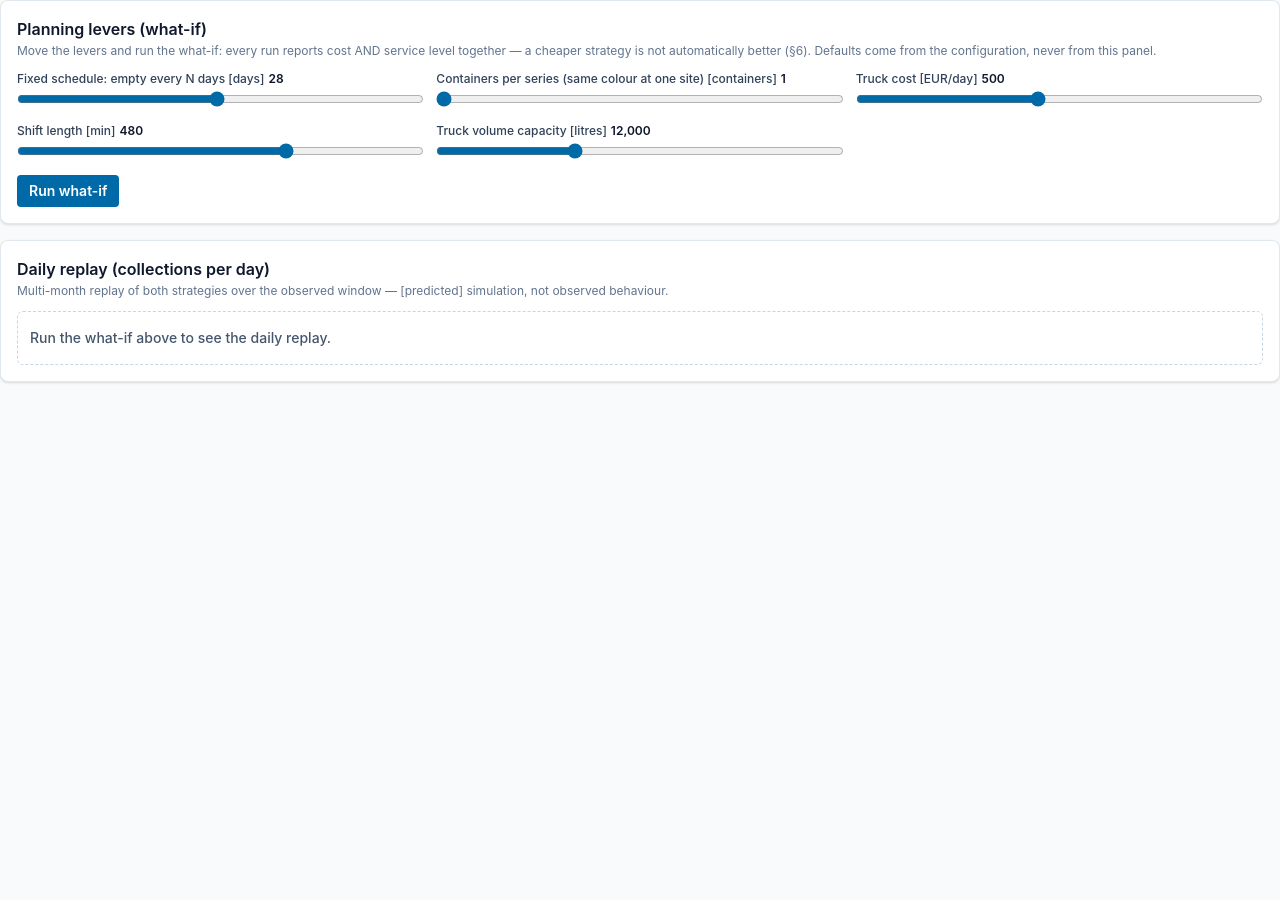
it: ScenariosPanel — results (§6 cost + service together) › renders — for null baseline median/peak trucks (backend: None iff no feasible active day)
What coordinates should you click on to do the following:
click the button with test id "scenarios-run"
I would click on:
 (68, 191)
Its box is [17,175,120,207].
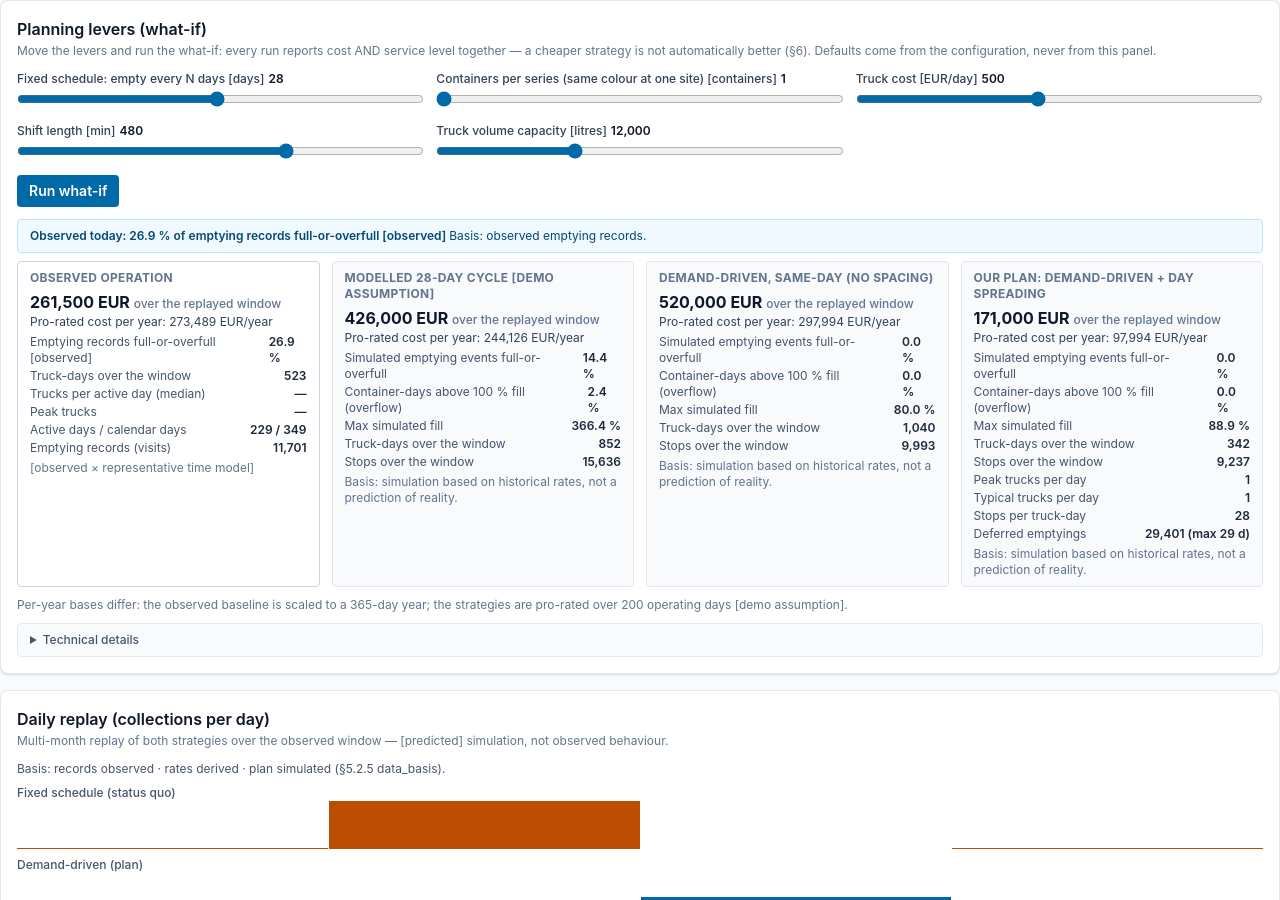
Check: the element with test id "scenarios-baseline" shows "261,500 EUR", box [17,261,320,587]
